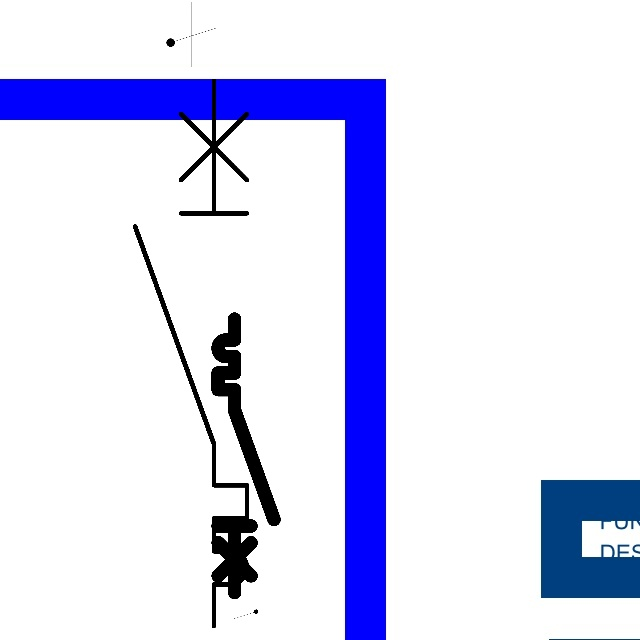interruptor_termomagnetico: (121, 66, 261, 640), (211, 312, 281, 599)
